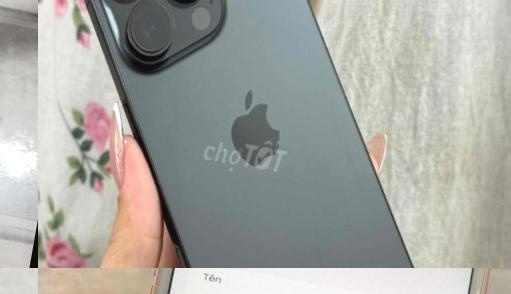scratch: (456, 279, 489, 294)
